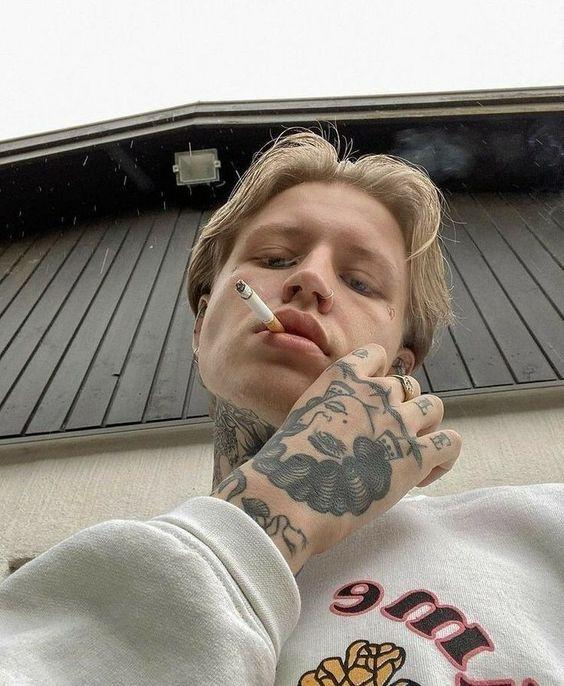cigarette: (235, 280, 286, 333)
